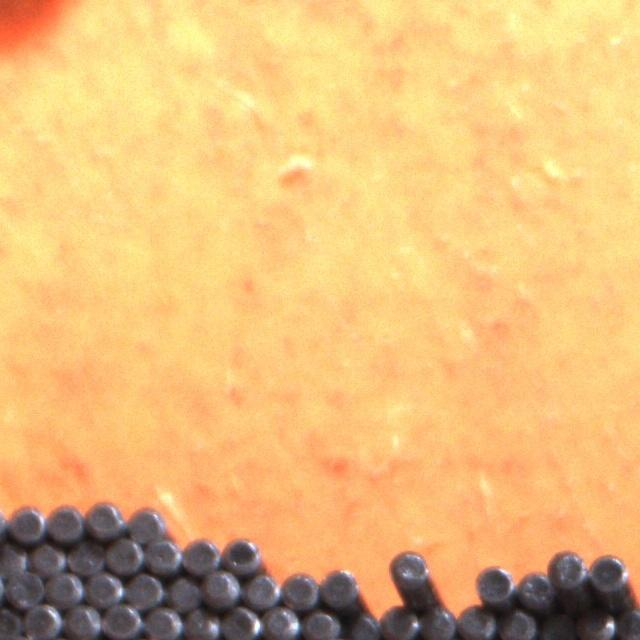tool: (475, 565, 515, 607), (390, 548, 430, 589), (240, 568, 280, 608), (200, 568, 240, 608), (222, 534, 262, 574), (23, 599, 63, 639), (5, 568, 45, 608), (102, 600, 142, 640), (280, 570, 319, 610), (65, 537, 104, 576), (143, 535, 182, 574), (62, 601, 101, 640), (549, 547, 588, 586), (181, 534, 219, 574), (105, 534, 143, 574), (8, 504, 46, 544), (125, 570, 163, 609), (320, 570, 358, 609), (46, 567, 84, 606), (518, 571, 556, 610), (85, 500, 124, 538), (46, 503, 84, 542), (127, 508, 166, 546), (588, 554, 627, 592), (85, 568, 123, 606), (457, 603, 496, 640), (164, 574, 202, 611), (262, 603, 300, 640), (28, 538, 65, 576), (221, 604, 259, 640), (143, 605, 181, 640), (182, 605, 220, 640), (419, 605, 457, 640), (557, 579, 595, 614), (300, 607, 340, 640), (381, 606, 418, 640), (498, 608, 537, 640), (576, 608, 614, 640), (342, 609, 380, 640), (538, 609, 576, 640), (0, 539, 28, 577), (0, 603, 23, 640), (616, 607, 640, 640)
